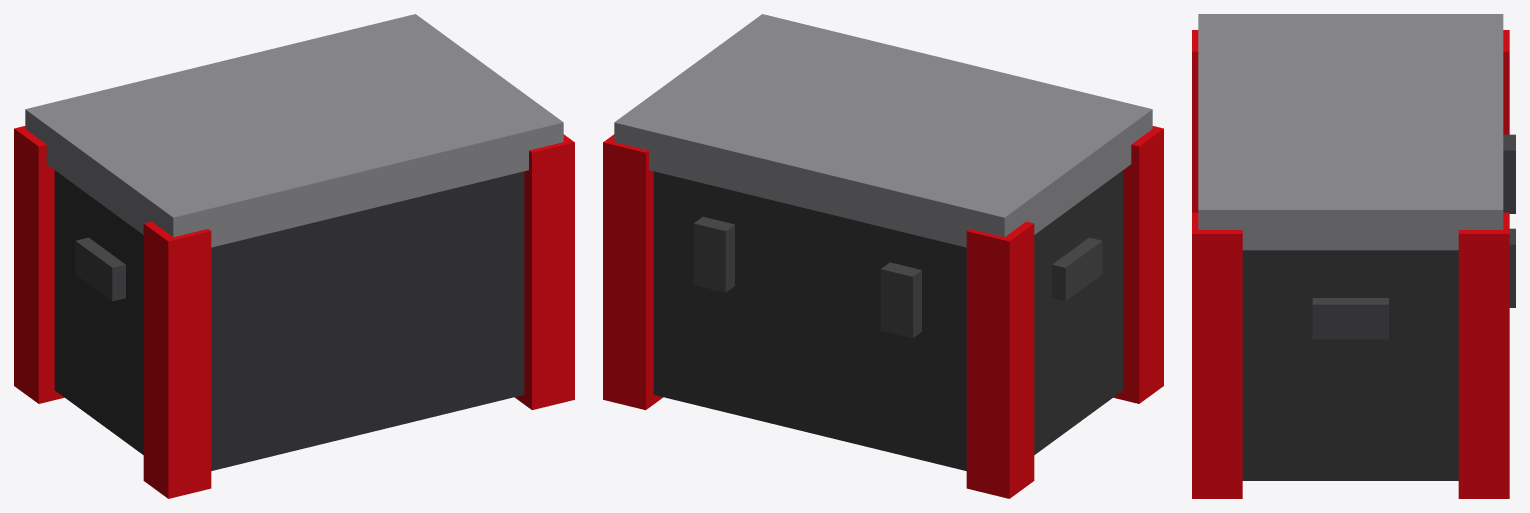
File: military_crate.glb
3 views of the same model, side by side, from view 1: azimuth 30°, elevation 25°; view 2: azimuth 150°, elevation 25°; view 3: azimuth 270°, elevation 25° (orthographic). The views are drawn at different scales.
Visible parts, largest first — view 1: Crate_Body, Crate_Lid, Crate_CornerBrace_0, Crate_CornerBrace_1, Crate_CornerBrace_2, Crate_Handle_0; view 2: Crate_Body, Crate_Lid, Crate_CornerBrace_2, Crate_CornerBrace_3, Crate_CornerBrace_0, Crate_Latch_0, Crate_Latch_1, Crate_Handle_0; view 3: Crate_Lid, Crate_Body, Crate_CornerBrace_3, Crate_CornerBrace_1, Crate_Handle_1, Crate_CornerBrace_0, Crate_Latch_0, Crate_CornerBrace_2, Crate_Latch_1.
Part boxes in pixels (x1,y1,x2,y2): Crate_Body: [54, 170, 524, 470]; Crate_Lid: [25, 14, 563, 247]; Crate_CornerBrace_0: [143, 221, 211, 498]; Crate_CornerBrace_1: [514, 134, 574, 410]; Crate_CornerBrace_2: [14, 126, 64, 403]; Crate_Handle_0: [75, 237, 125, 301]; Crate_Body: [653, 170, 1123, 470]; Crate_Lid: [614, 14, 1152, 247]; Crate_CornerBrace_2: [966, 221, 1034, 498]; Crate_CornerBrace_3: [603, 134, 663, 410]; Crate_CornerBrace_0: [1113, 126, 1163, 403]; Crate_Latch_0: [880, 262, 921, 338]; Crate_Latch_1: [693, 216, 734, 292]; Crate_Handle_0: [1052, 237, 1102, 301]; Crate_Lid: [1198, 14, 1503, 250]; Crate_Body: [1242, 250, 1458, 480]; Crate_CornerBrace_3: [1458, 212, 1509, 498]; Crate_CornerBrace_1: [1192, 212, 1242, 498]; Crate_Handle_1: [1312, 298, 1388, 339]; Crate_CornerBrace_0: [1192, 30, 1198, 212]; Crate_Latch_0: [1503, 134, 1515, 213]; Crate_CornerBrace_2: [1503, 30, 1509, 134]; Crate_Latch_1: [1509, 228, 1515, 307].
Bounding box in the file's own units: 1.52 × 0.99 × 1.02.
